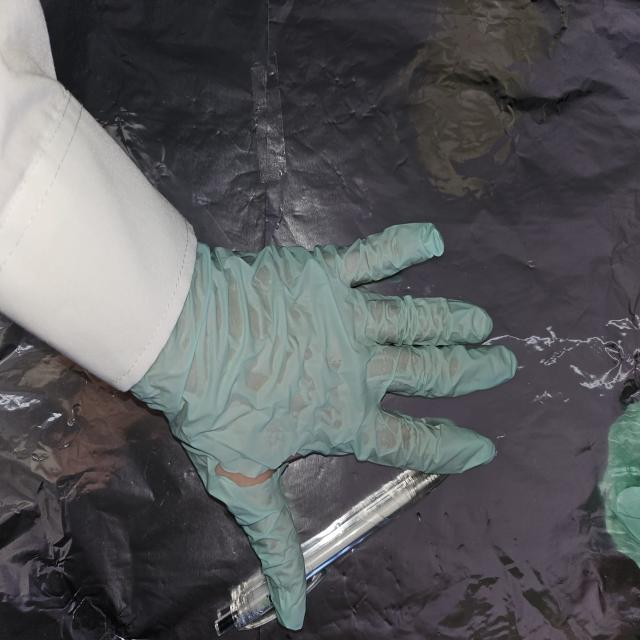gloves_damaged: (130, 221, 518, 630)
